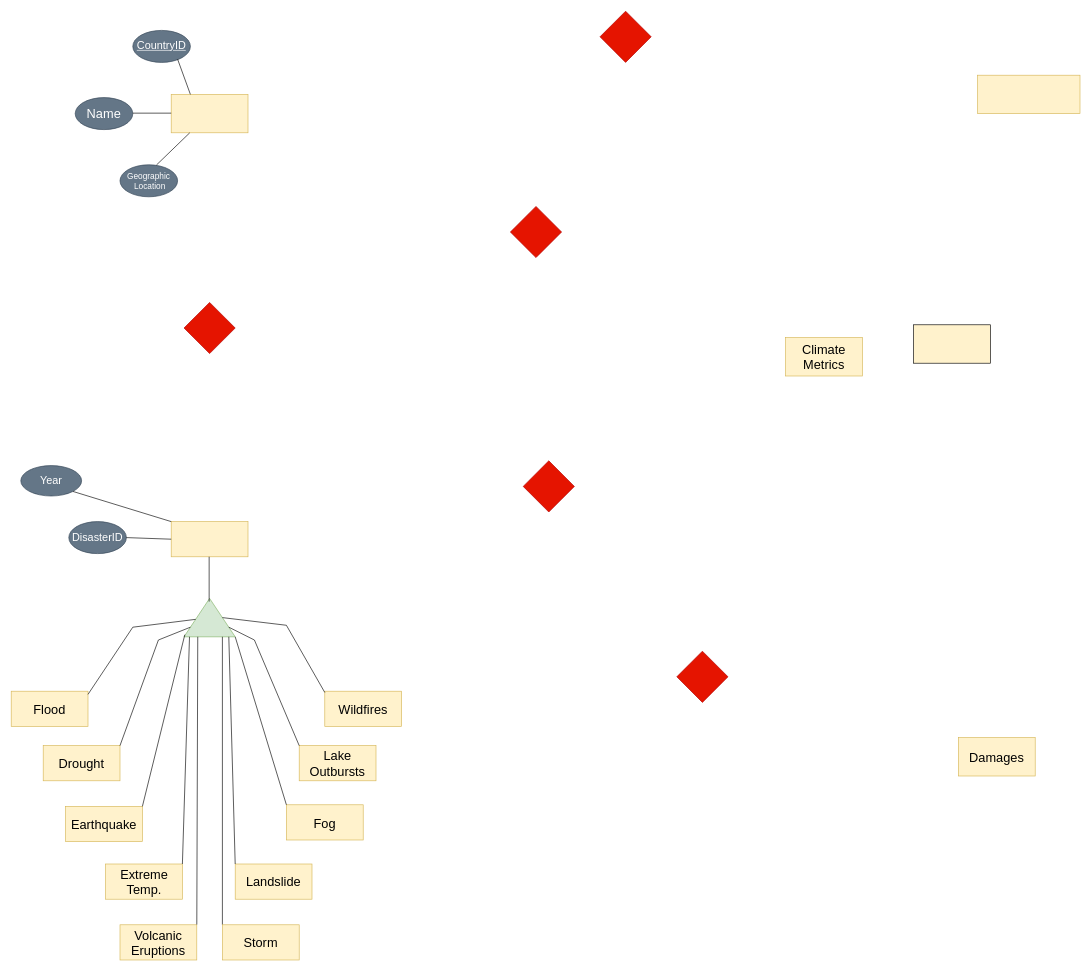
Image size: 1091x972. Some labels were removed from this diagram. Each missing label, with the centre of its shape:
"Country" belongs at point (209, 113).
"ISA" belongs at point (209, 617).
"Natural Disaster" belongs at point (209, 539).
"Socio-Economic Indicators" belongs at point (1028, 94).
